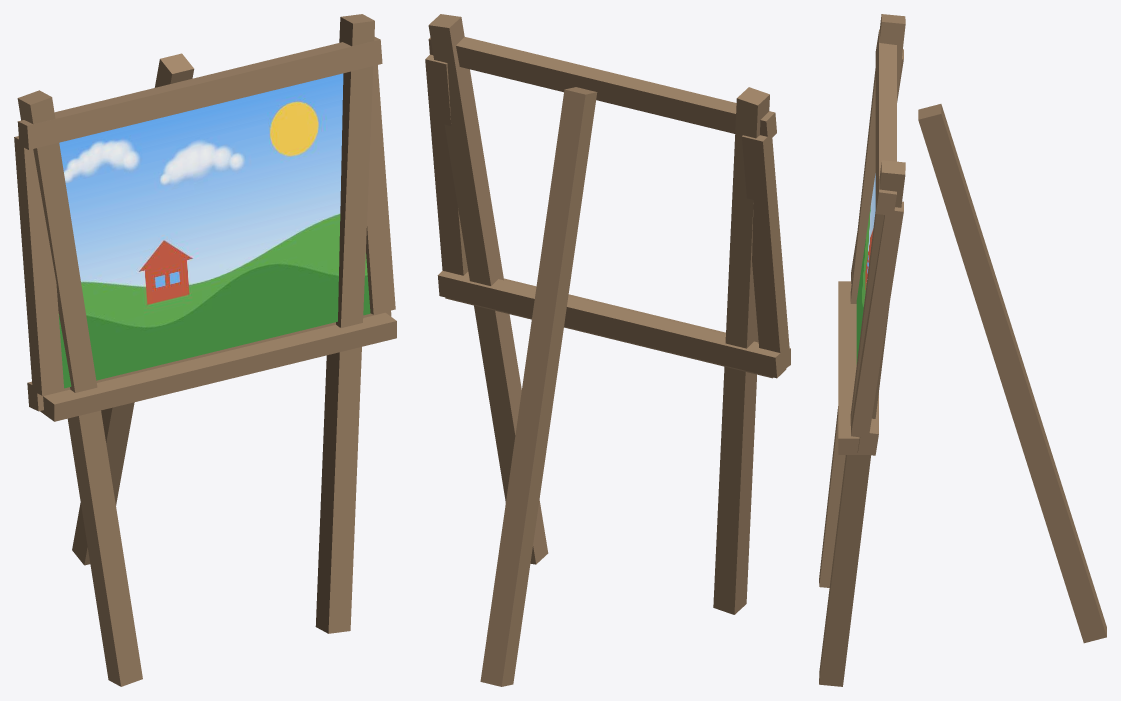
File: easel.glb
The picture shows the model from 3 angles, left to right: view 1: azimuth 30°, elevation 25°; view 2: azimuth 150°, elevation 25°; view 3: azimuth 270°, elevation 25°; orthographic projection. The views are drawn at different scales.
Visible parts, largest first — view 1: frame, picture; view 2: frame; view 3: frame, picture.
Boxes of the visible parts, x1=… form: frame: x1=14, y1=14, x2=396, y2=686; picture: x1=58, y1=73, x2=370, y2=388; frame: x1=425, y1=14, x2=790, y2=686; frame: x1=819, y1=14, x2=1106, y2=686; picture: x1=856, y1=173, x2=875, y2=364.
Bounding box in the file's own units: 0.64 × 1 × 0.4791.
Materials: 2 (1 with a texture image).
